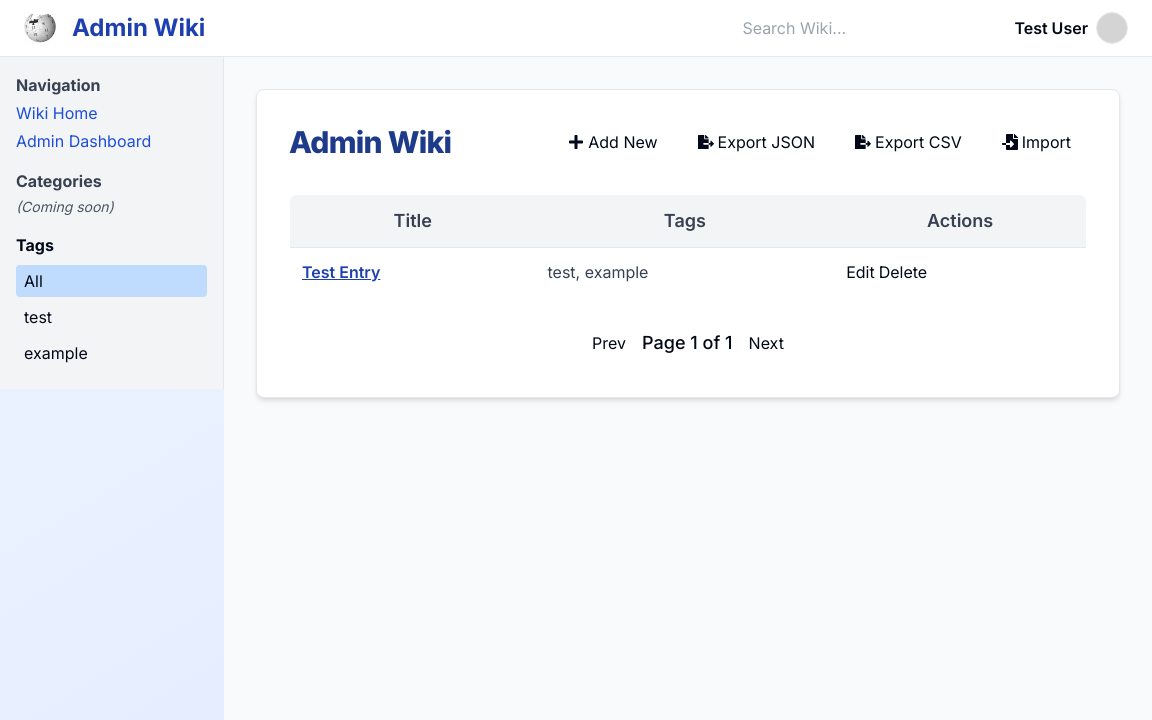
Test: AdminWiki (edit/delete) › allows admin to delete an entry
Expected: the text "Test Entry" is shown, [290,248,536,296]
Note: Click delete button to open modal
Click the button with class "btn-error": x=903, y=272 [879,260,927,284]
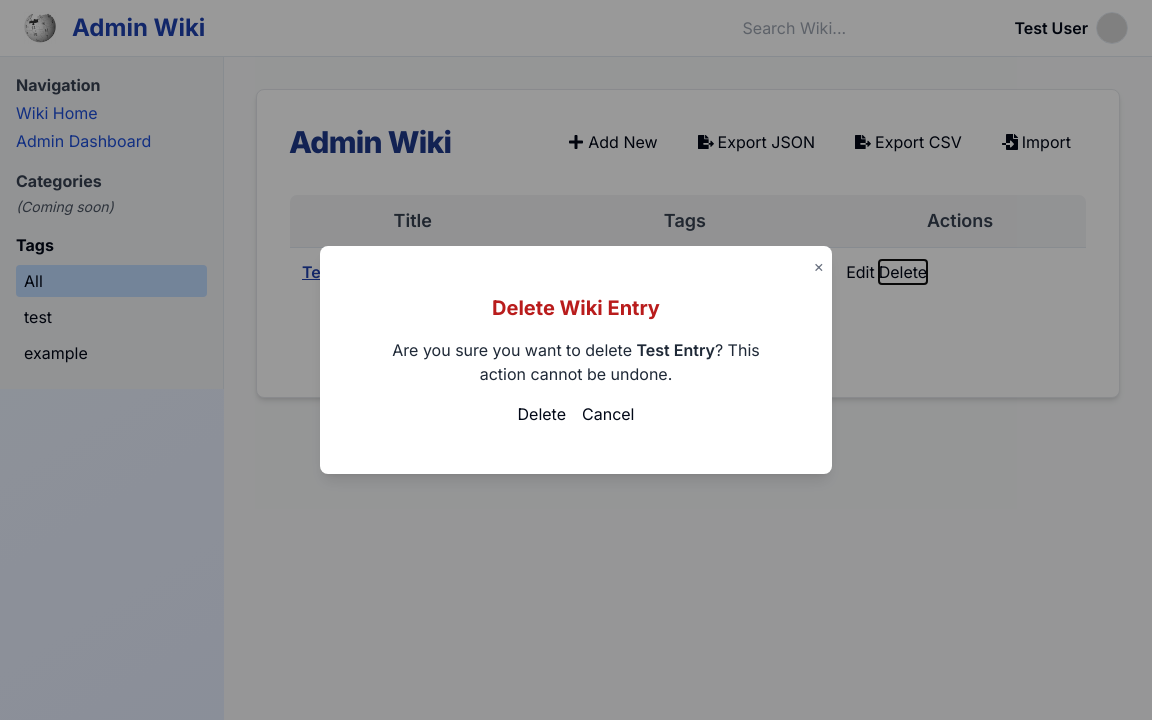
Expected: the heading "Delete Wiki Entry" is shown, [492,296,660,320]
Expected: the button "Delete" is shown
Note: Click confirm delete button
Click the button "Delete": x=542, y=414 [518,402,566,426]
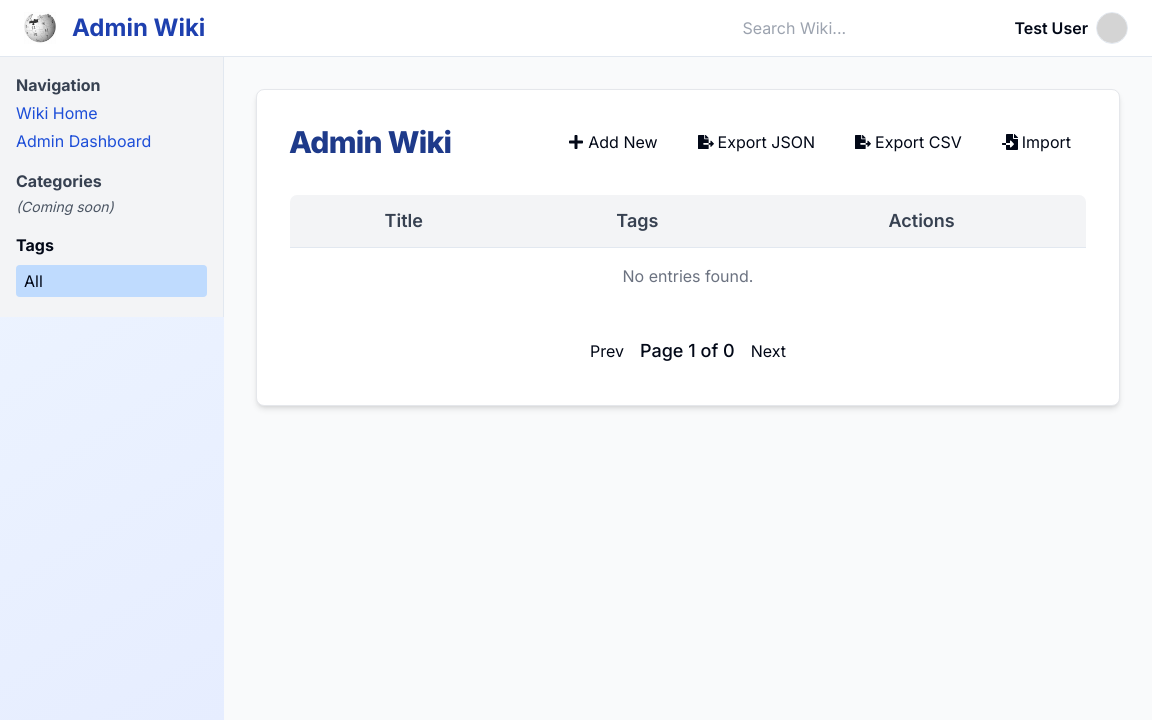
Expected: the text "Test Entry" is gone
